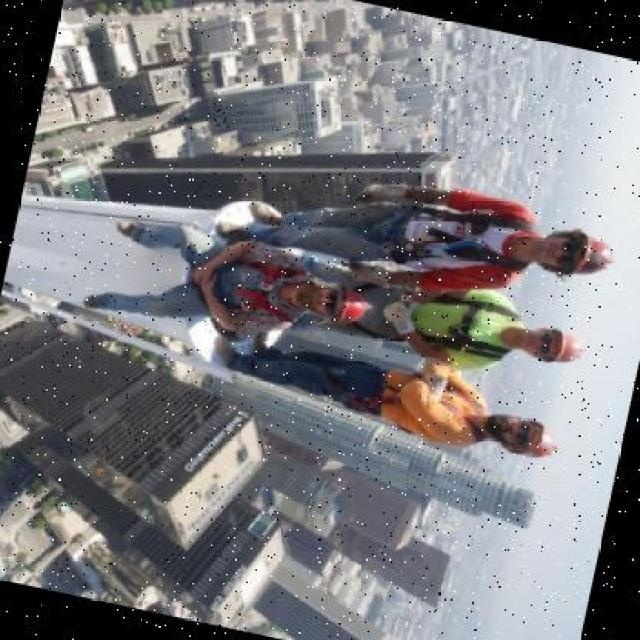Arnes_seguridad: (334, 346, 500, 454), (382, 193, 540, 293), (383, 279, 523, 364), (210, 247, 310, 332)
